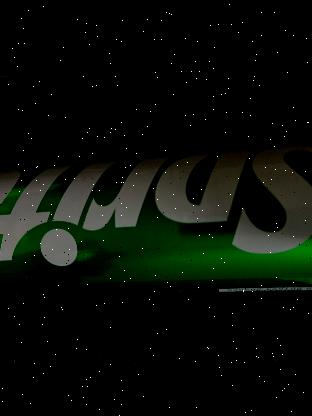Can: (0, 142, 312, 297)
